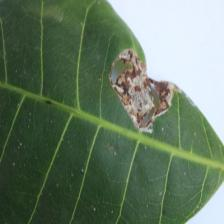leaf miner: (96, 39, 187, 140)
